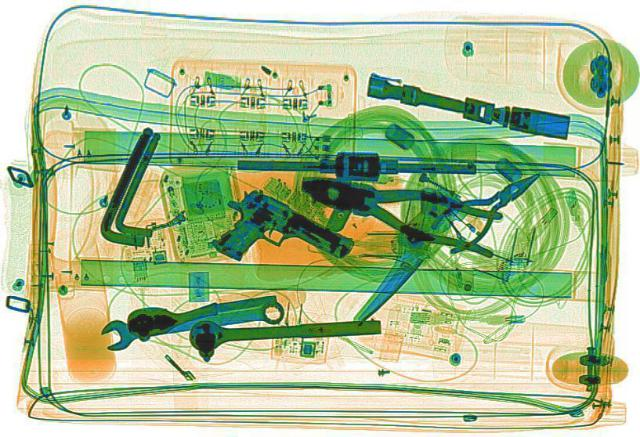Gun: (183, 183, 359, 290)
Pliers: (283, 158, 522, 257), (411, 159, 561, 254)
Wrench: (95, 294, 287, 351)
